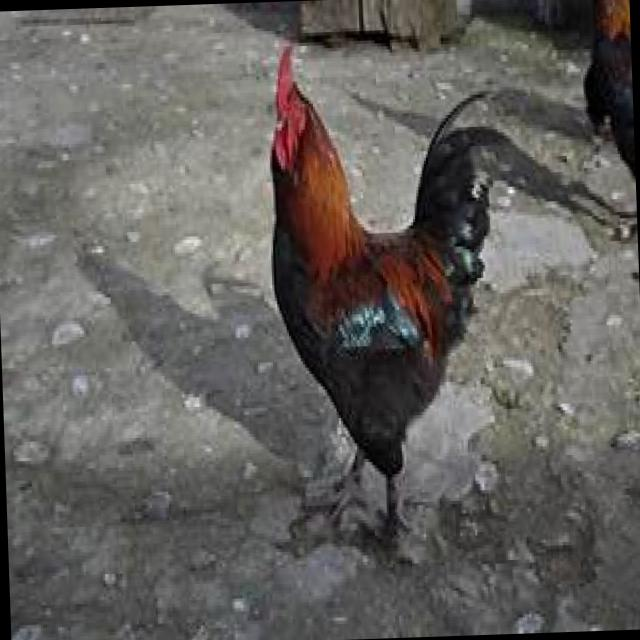chicken: (263, 28, 640, 558)
